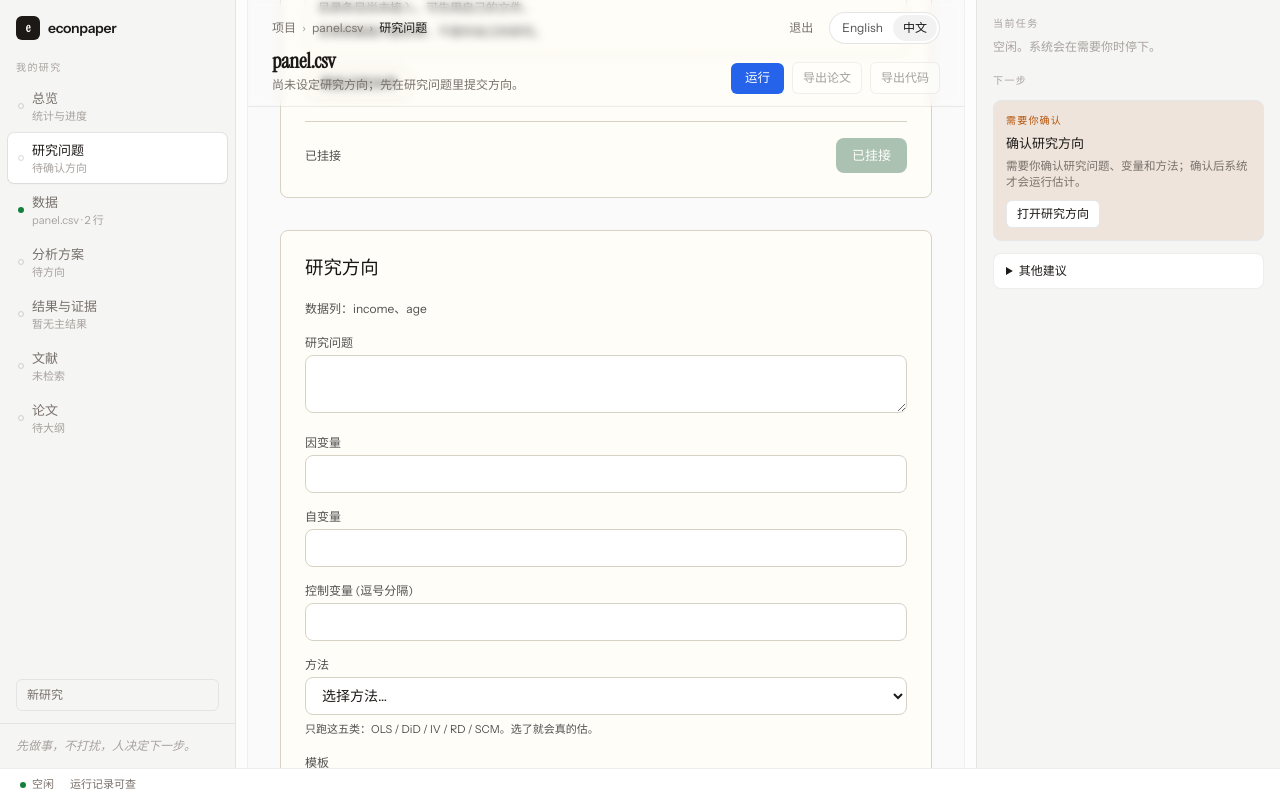
Scenario: DC-FE-gate App wiring › 409 session_busy on direction does not start another estimate
The width and height of the screenshot is (1280, 800).
(page scrolled)
Check: the form with test id "direction-form" is shown, box [305, 299, 907, 768]
Type "教育对收入的影响" into the text box labelled "研究问题" at (606, 384), box [305, 355, 907, 413]
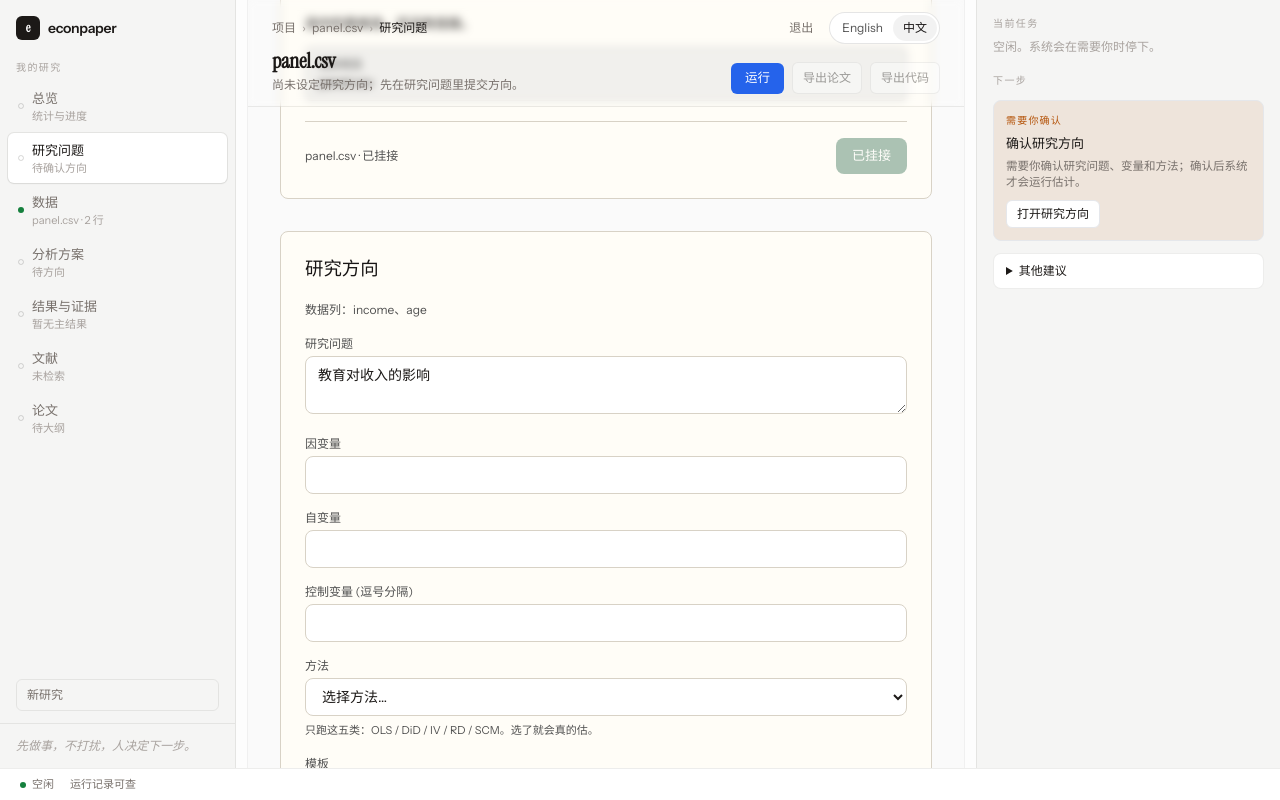
Type "income" into the field labelled "因变量" at (606, 475), box [305, 456, 907, 494]
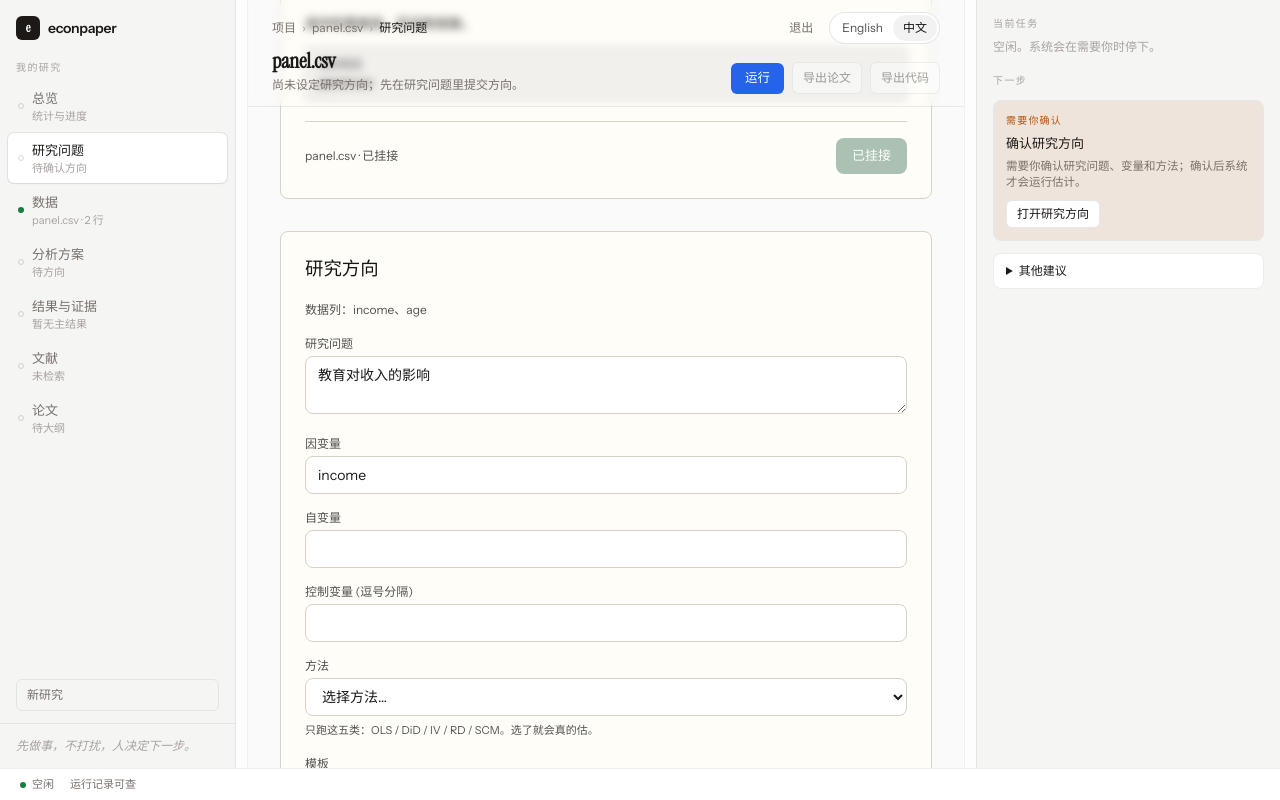
Type "age" into the field labelled "自变量" at (606, 549), box [305, 530, 907, 568]
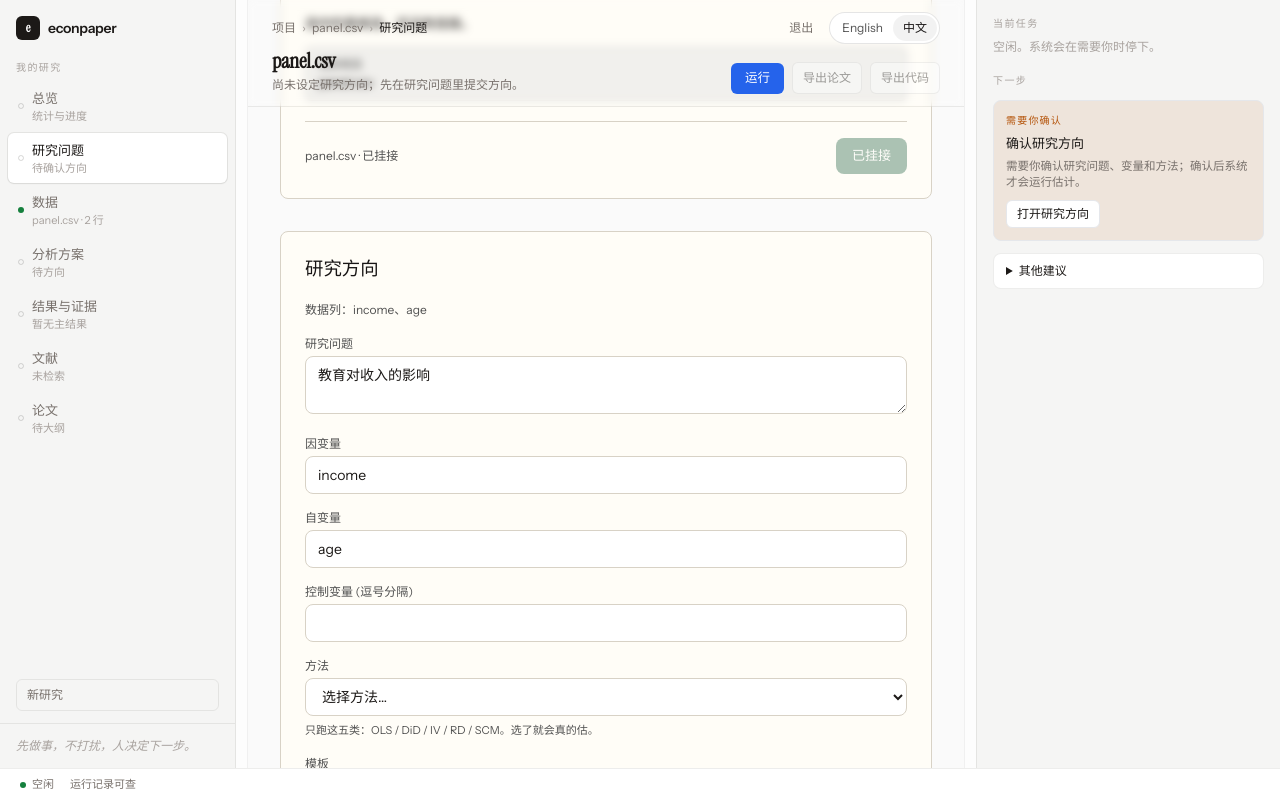
Select "OLS" in the dropdown named "方法" at (606, 697), box [305, 678, 907, 716]
(page scrolled)
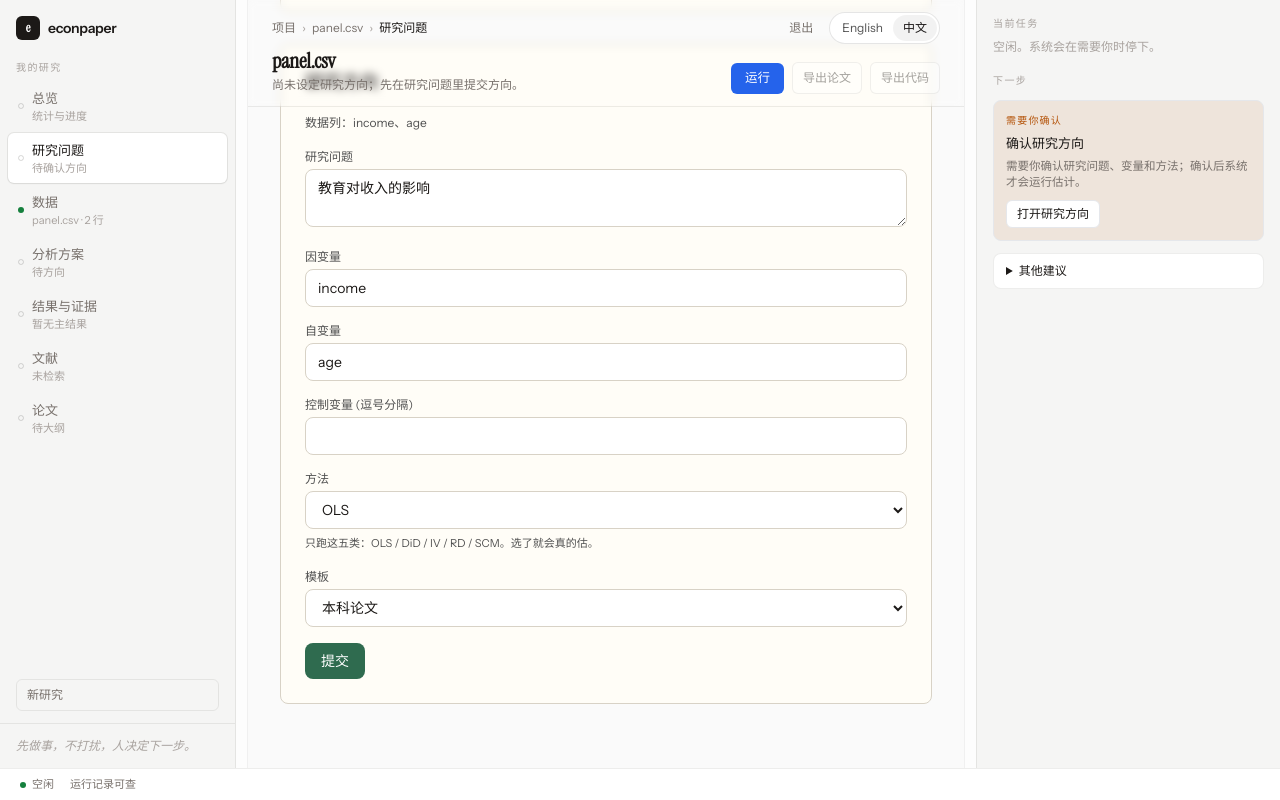
Submit the form with test id "direction-form", box [305, 113, 907, 679]
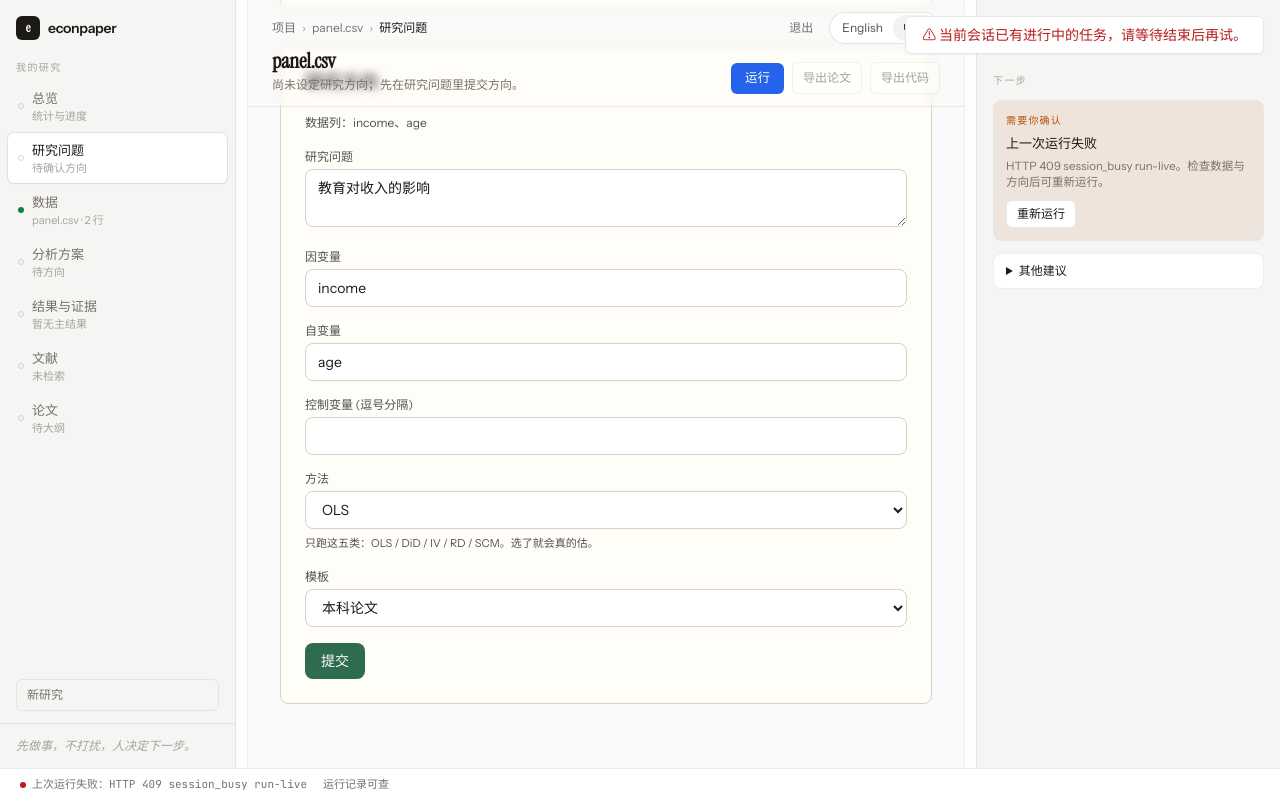
Check: the text with test id "global-error-toast" shows "已有进行中的任务", box [939, 26, 1247, 44]
